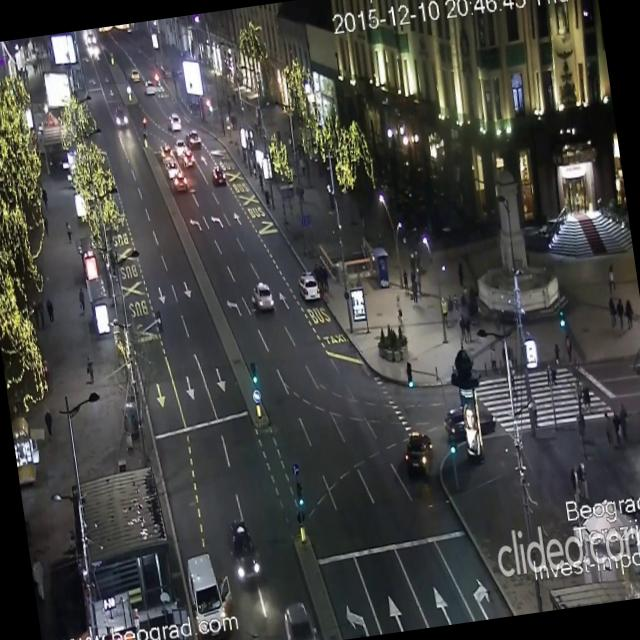car: (226, 516, 264, 586), (401, 428, 436, 478), (281, 599, 319, 640), (446, 406, 492, 438), (250, 280, 276, 314), (298, 272, 322, 302), (164, 158, 183, 181), (179, 148, 196, 170), (188, 128, 205, 150), (171, 170, 187, 192), (215, 162, 228, 189), (170, 114, 183, 132), (161, 142, 174, 160), (175, 138, 186, 158), (115, 112, 128, 126), (129, 70, 142, 82)
